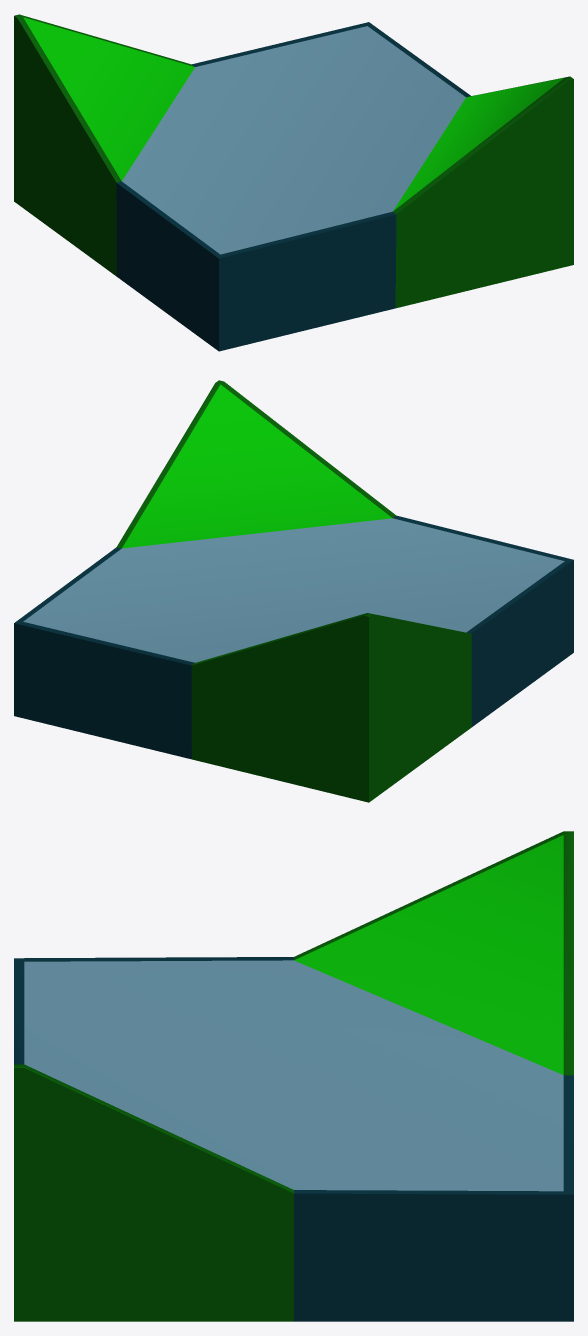
The model's file is Agua_4.fbx.
The picture shows the model from 3 angles, top to bottom: view 1: azimuth 30°, elevation 25°; view 2: azimuth 150°, elevation 25°; view 3: azimuth 270°, elevation 25°; orthographic projection. The views are drawn at different scales.
Parts seen in each view (by area): view 1: pCube7; view 2: pCube7; view 3: pCube7.
Part boxes in pixels (x1=…): pCube7: x1=14, y1=14, x2=573, y2=351; pCube7: x1=14, y1=380, x2=573, y2=802; pCube7: x1=14, y1=831, x2=573, y2=1321.
Size of the model in its own units: 200 by 100 by 200.
